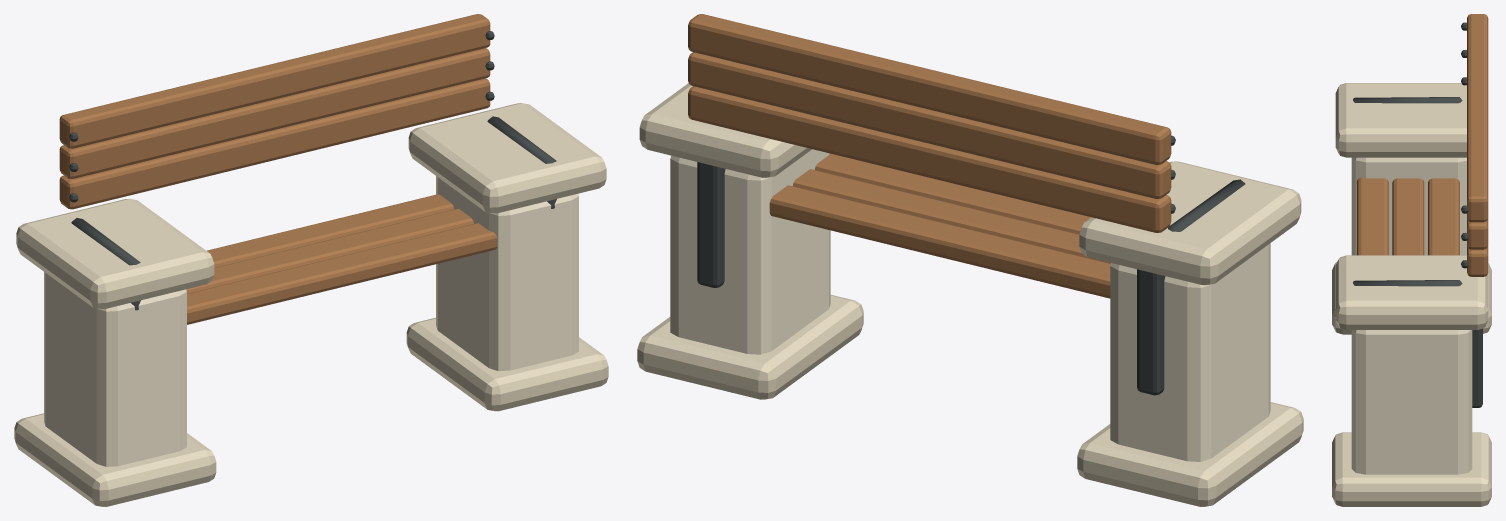
File: stone-bench.glb
The picture shows the model from 3 angles, left to right: view 1: azimuth 30°, elevation 25°; view 2: azimuth 150°, elevation 25°; view 3: azimuth 270°, elevation 25°; orthographic projection. The views are drawn at different scales.
Visible parts, largest first — view 1: bench_stone_pier, bench_stone_pier.001, bench_back_slat.002, bench_stone_cap.001, bench_stone_cap, bench_back_slat, bench_back_slat.001, bench_seat_slat, bench_stone_base, bench_stone_base.001, bench_seat_slat.001, bench_seat_slat.002 (+2 smaller); view 2: bench_stone_pier, bench_stone_pier.001, bench_back_slat.002, bench_back_slat, bench_back_slat.001, bench_stone_cap, bench_seat_slat.002, bench_stone_base, bench_stone_base.001, bench_stone_cap.001, bench_seat_slat.001, bench_seat_slat (+3 smaller); view 3: bench_stone_pier.001, bench_stone_cap.001, bench_stone_cap, bench_stone_base.001, bench_back_slat.002, bench_stone_pier, bench_seat_slat.001, bench_seat_slat, bench_seat_slat.002, bench_bracket.001, bench_armrest, bench_armrest.001 (+3 smaller).
Boxes of the visible parts, x1=… form: bench_stone_pier: x1=44, y1=272, x2=186, y2=466; bench_stone_pier.001: x1=436, y1=176, x2=578, y2=371; bench_back_slat.002: x1=59, y1=14, x2=490, y2=148; bench_stone_cap.001: x1=408, y1=103, x2=606, y2=213; bench_stone_cap: x1=16, y1=198, x2=214, y2=309; bench_back_slat: x1=59, y1=78, x2=490, y2=209; bench_back_slat.001: x1=59, y1=48, x2=490, y2=178; bench_seat_slat: x1=187, y1=223, x2=497, y2=324; bench_stone_base: x1=14, y1=413, x2=216, y2=506; bench_stone_base.001: x1=406, y1=317, x2=608, y2=411; bench_seat_slat.001: x1=186, y1=208, x2=473, y2=293; bench_seat_slat.002: x1=207, y1=194, x2=453, y2=267; bench_stone_pier: x1=1110, y1=243, x2=1270, y2=461; bench_stone_pier.001: x1=670, y1=149, x2=830, y2=354; bench_back_slat.002: x1=688, y1=14, x2=1171, y2=164; bench_back_slat: x1=688, y1=86, x2=1171, y2=232; bench_back_slat.001: x1=688, y1=52, x2=1171, y2=198; bench_stone_cap: x1=1079, y1=161, x2=1301, y2=285; bench_seat_slat.002: x1=769, y1=185, x2=1110, y2=298; bench_stone_base: x1=1077, y1=402, x2=1303, y2=506; bench_stone_base.001: x1=637, y1=294, x2=863, y2=399; bench_stone_cap.001: x1=639, y1=83, x2=811, y2=177; bench_seat_slat.001: x1=793, y1=169, x2=1110, y2=263; bench_seat_slat: x1=815, y1=153, x2=1090, y2=234; bench_stone_pier.001: x1=1351, y1=330, x2=1472, y2=474; bench_stone_cap.001: x1=1335, y1=255, x2=1488, y2=329; bench_stone_cap: x1=1335, y1=83, x2=1466, y2=157; bench_stone_base.001: x1=1332, y1=432, x2=1491, y2=506; bench_back_slat.002: x1=1467, y1=14, x2=1488, y2=222; bench_stone_pier: x1=1351, y1=157, x2=1466, y2=255; bench_seat_slat.001: x1=1392, y1=178, x2=1424, y2=255; bench_seat_slat: x1=1357, y1=177, x2=1388, y2=255; bench_seat_slat.002: x1=1428, y1=178, x2=1459, y2=255; bench_bracket.001: x1=1472, y1=328, x2=1482, y2=407; bench_armrest: x1=1353, y1=97, x2=1462, y2=103; bench_armrest.001: x1=1353, y1=280, x2=1462, y2=286.
Size of the model in its own units: 3.02 by 1.82 by 0.9.
